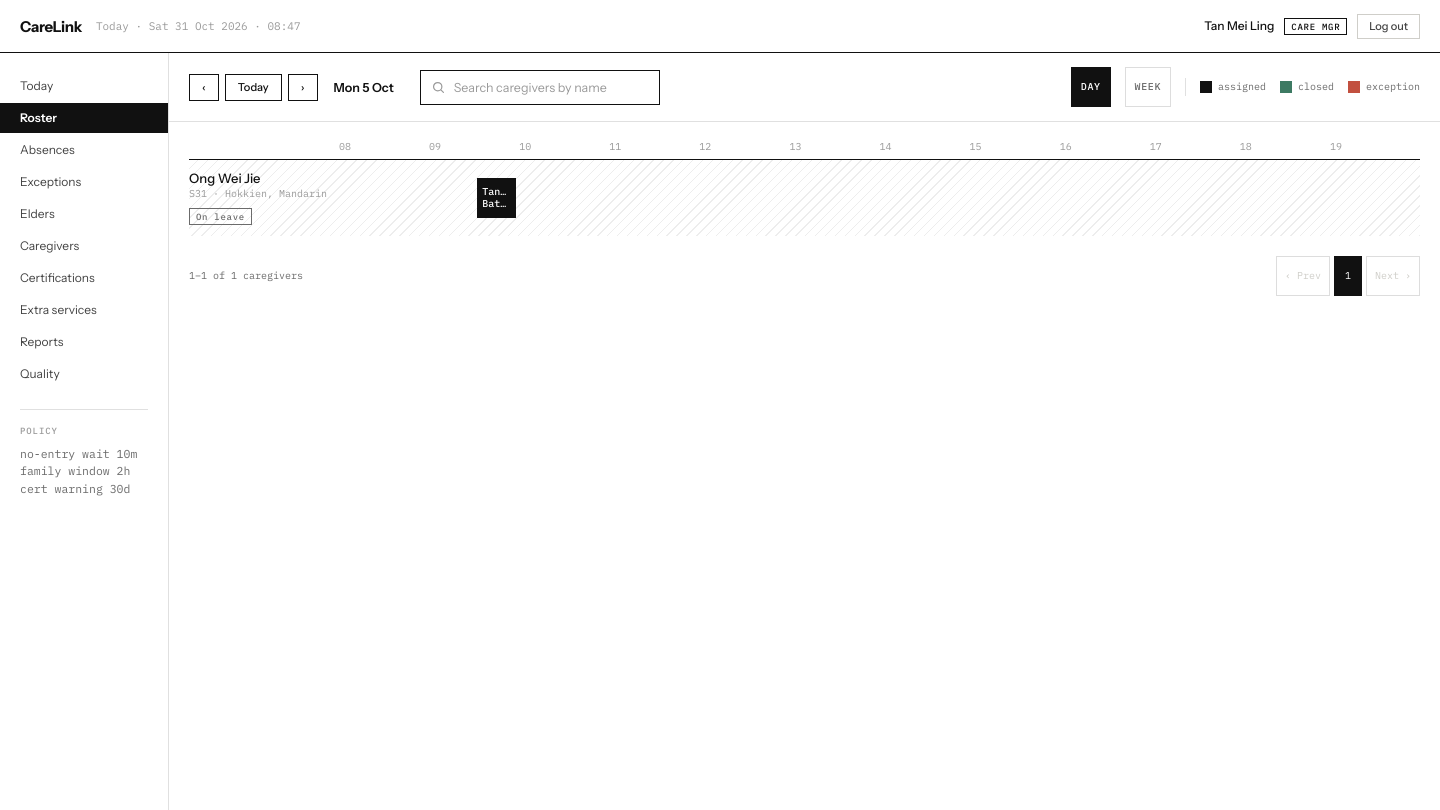
marks a caregiver on approved leave, linking to the absence, in Day and Week
Expected: the element titled "09:30 · Tan Hock Seng" shows "Bathing assistance", [482,197,590,210]
Click the button "WEEK" at (1148, 87), box [1125,67,1171,107]
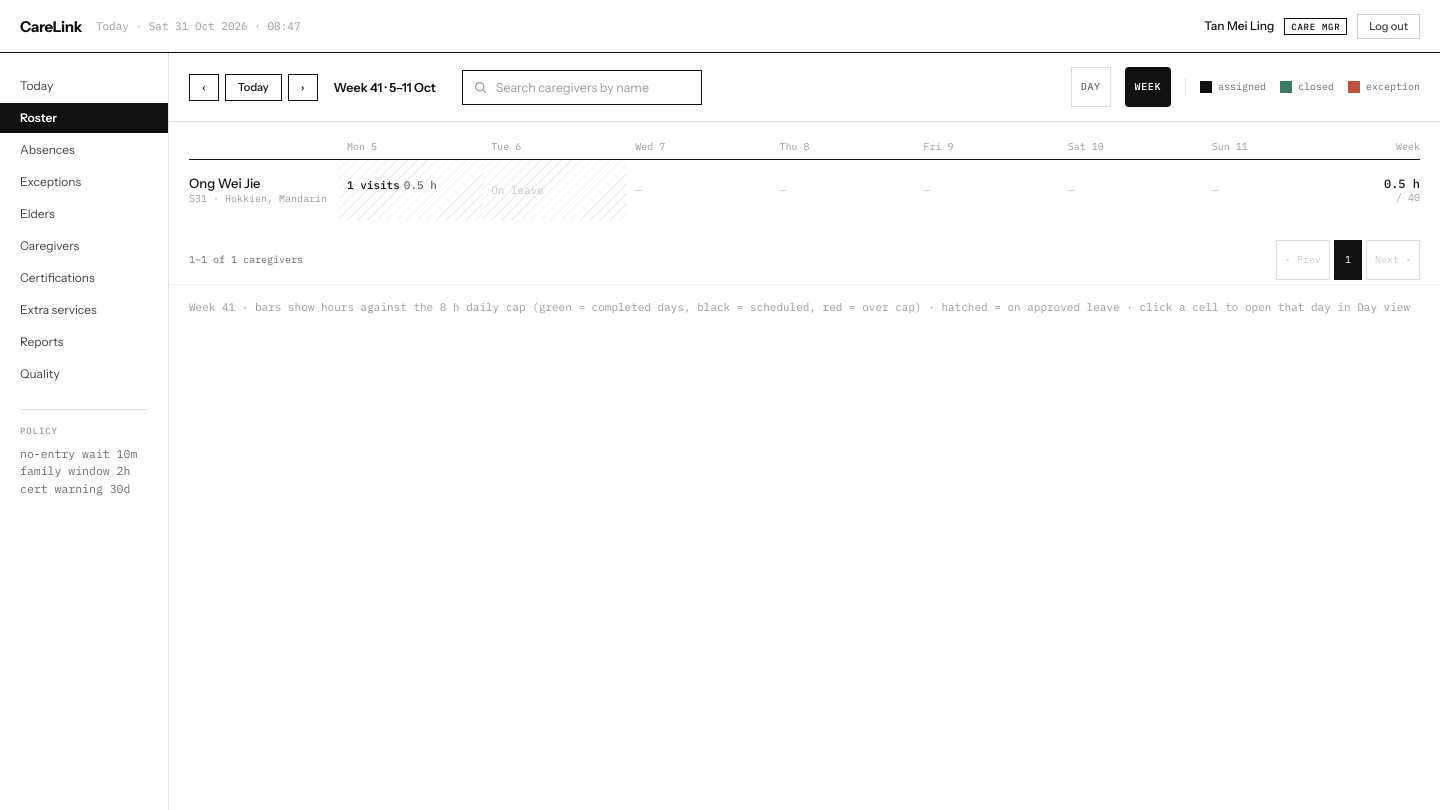
Expected: the text "On leave" is shown, [483,160,627,220]
Result: the button with aria-label "Mon 5: on leave, 1 visits, 0.5 h. Open in Day view" is shown at [339,160,483,220]
